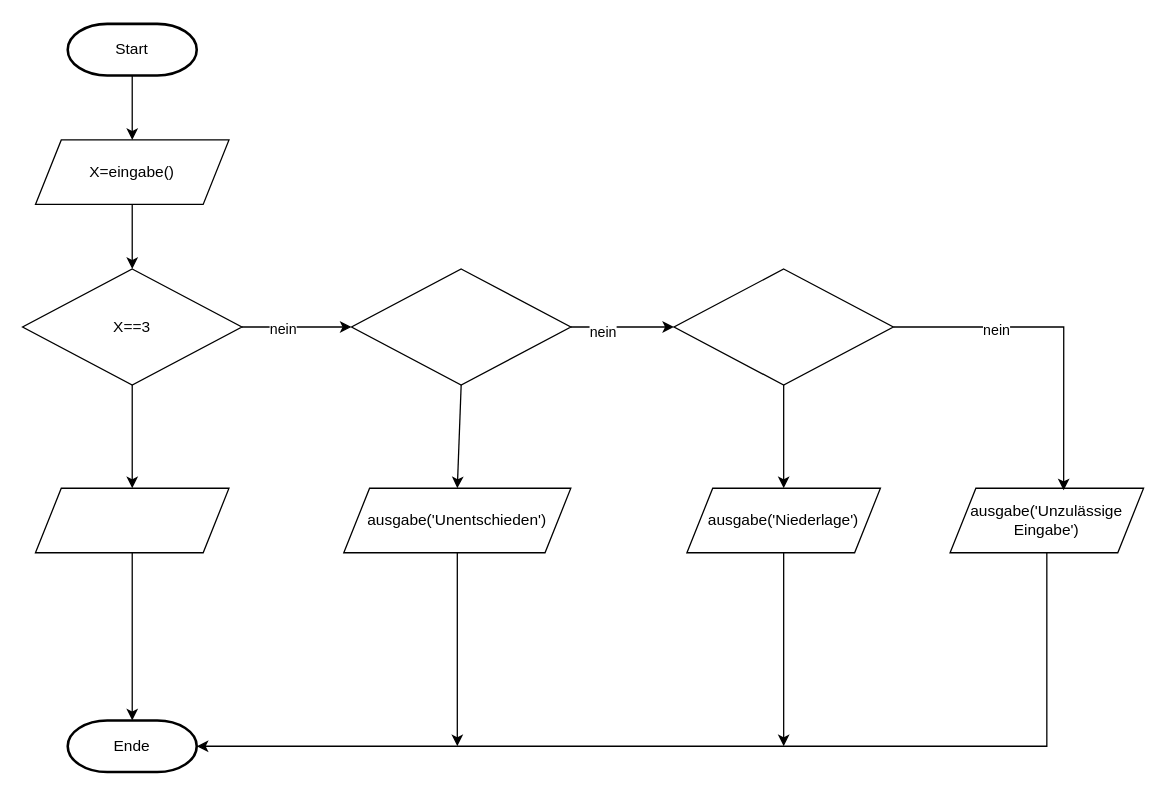
Some shapes in this 1166 by 795 pixel diagram are drawn without their labels. The centre of each missing label's shape, as x and y in pixels:
ausgabe('Sieg'): [131,520]
X==0: [783,326]
X==1: [460,326]
